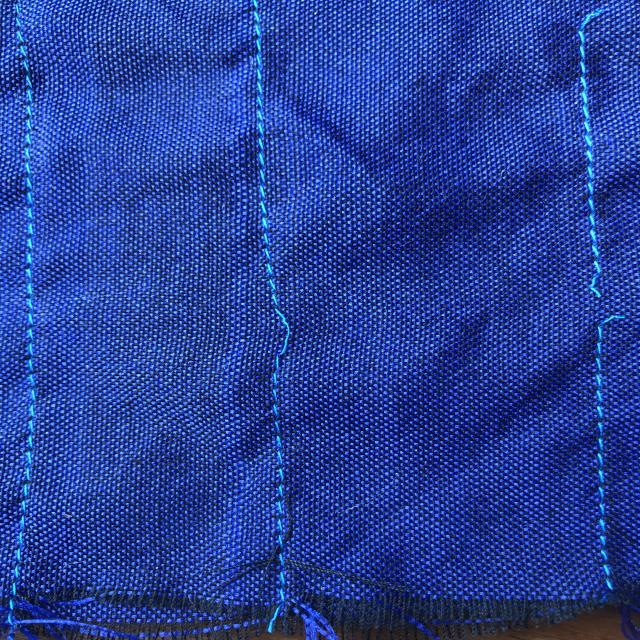broken: (577, 245, 633, 344)
good: (235, 154, 291, 243)
skip: (249, 276, 312, 378)
